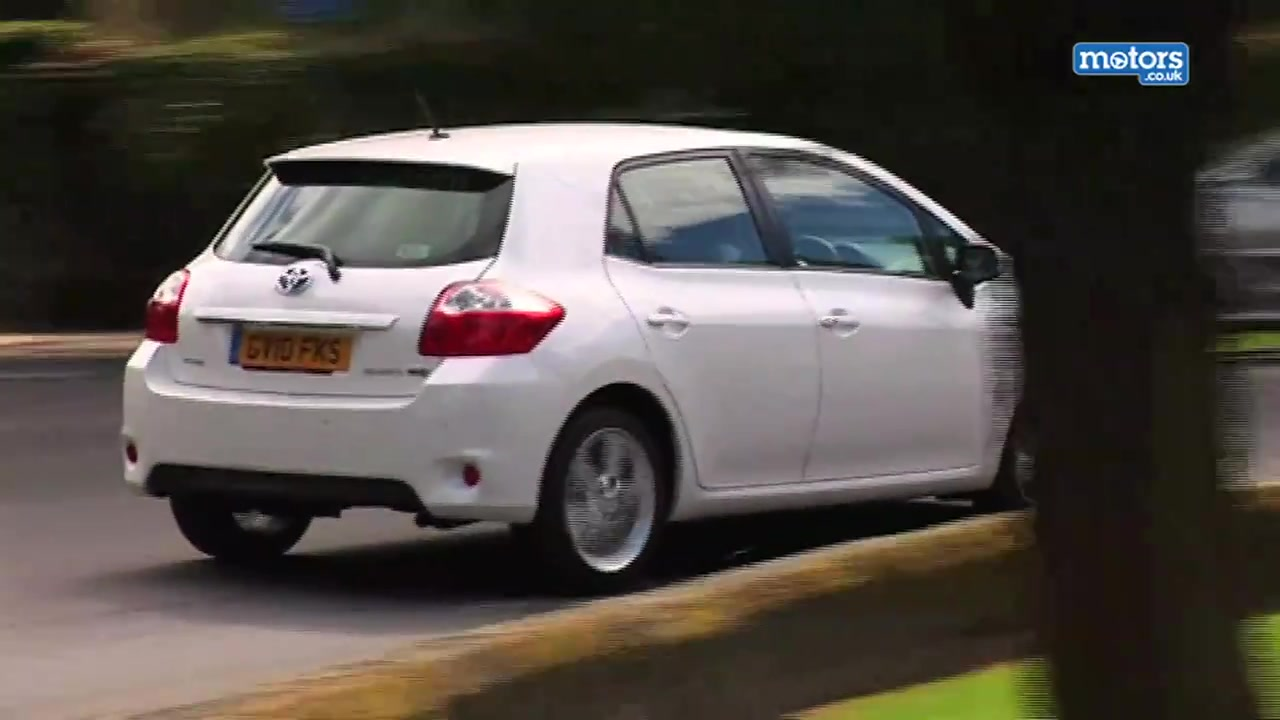car: (118, 116, 1029, 587), (1204, 125, 1280, 317)
